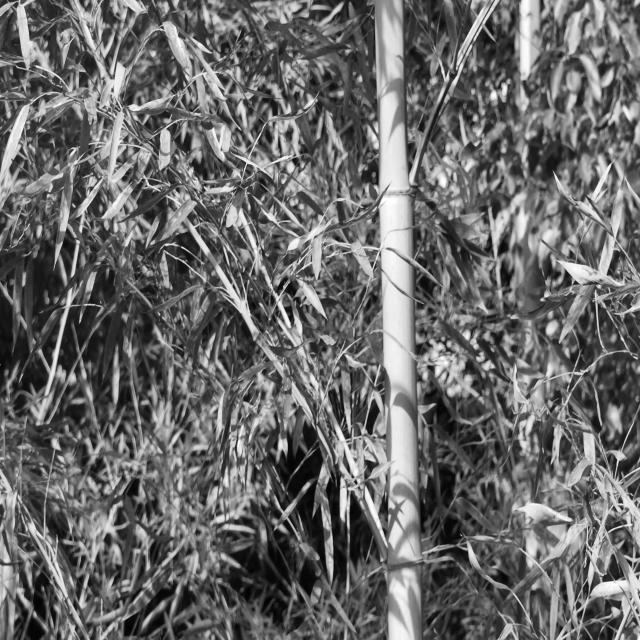Bamboo-shoots: (375, 0, 423, 640)
